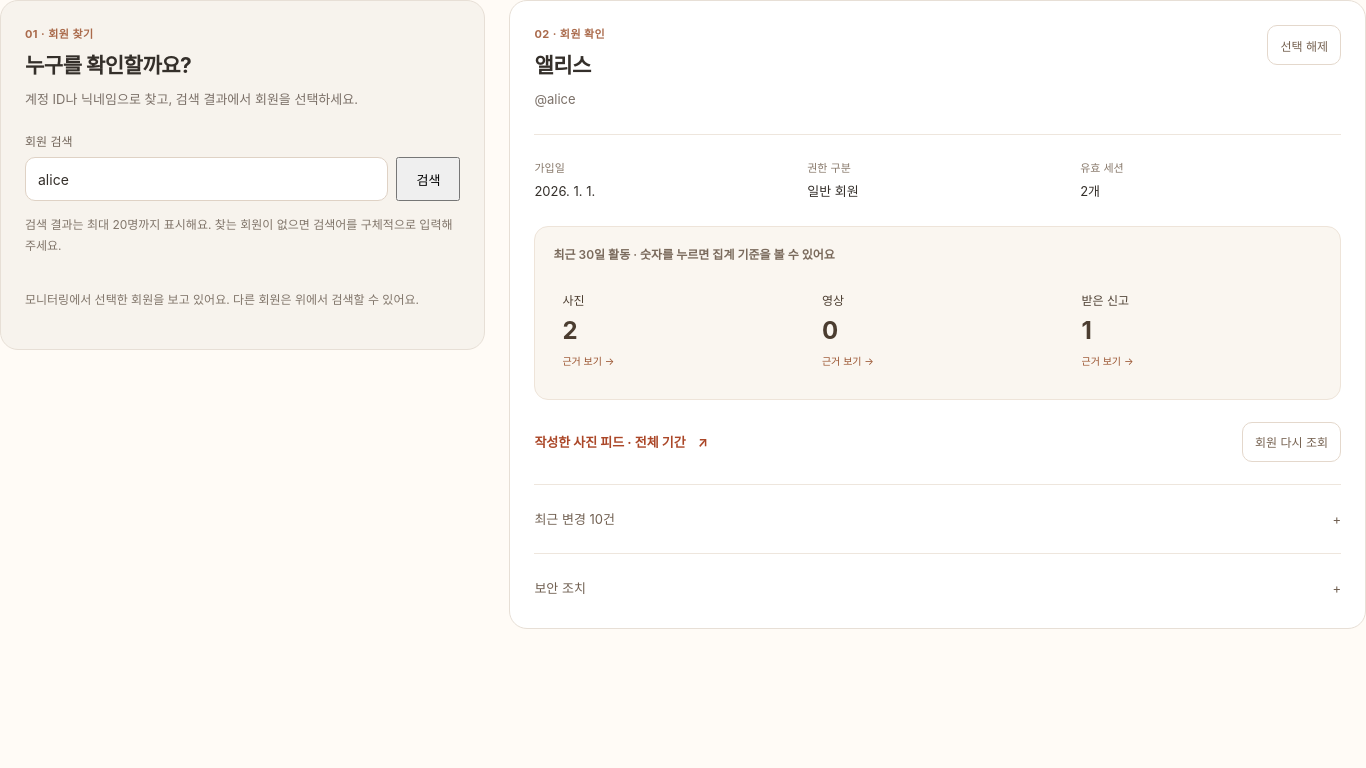
searching another account clears the previous detail and its action
The width and height of the screenshot is (1366, 768).
Check: the heading "최근 변경 10건 +" is shown, box x1=534 y1=511 x2=1341 y2=528
Replace the text in the search field labelled "회원 검색" with "not-found" at (207, 180), box x1=25 y1=158 x2=388 y2=202
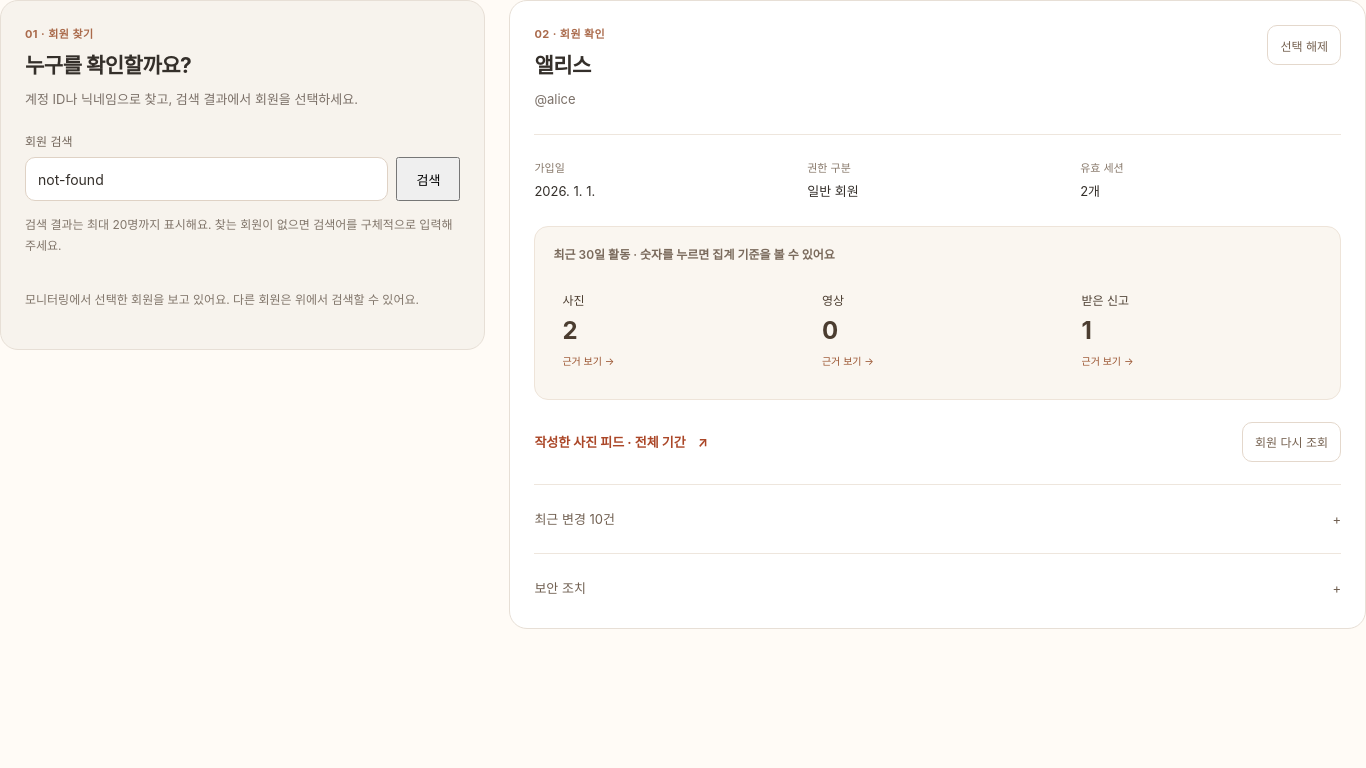
Click the button "검색" at (428, 180), box x1=396 y1=158 x2=460 y2=202
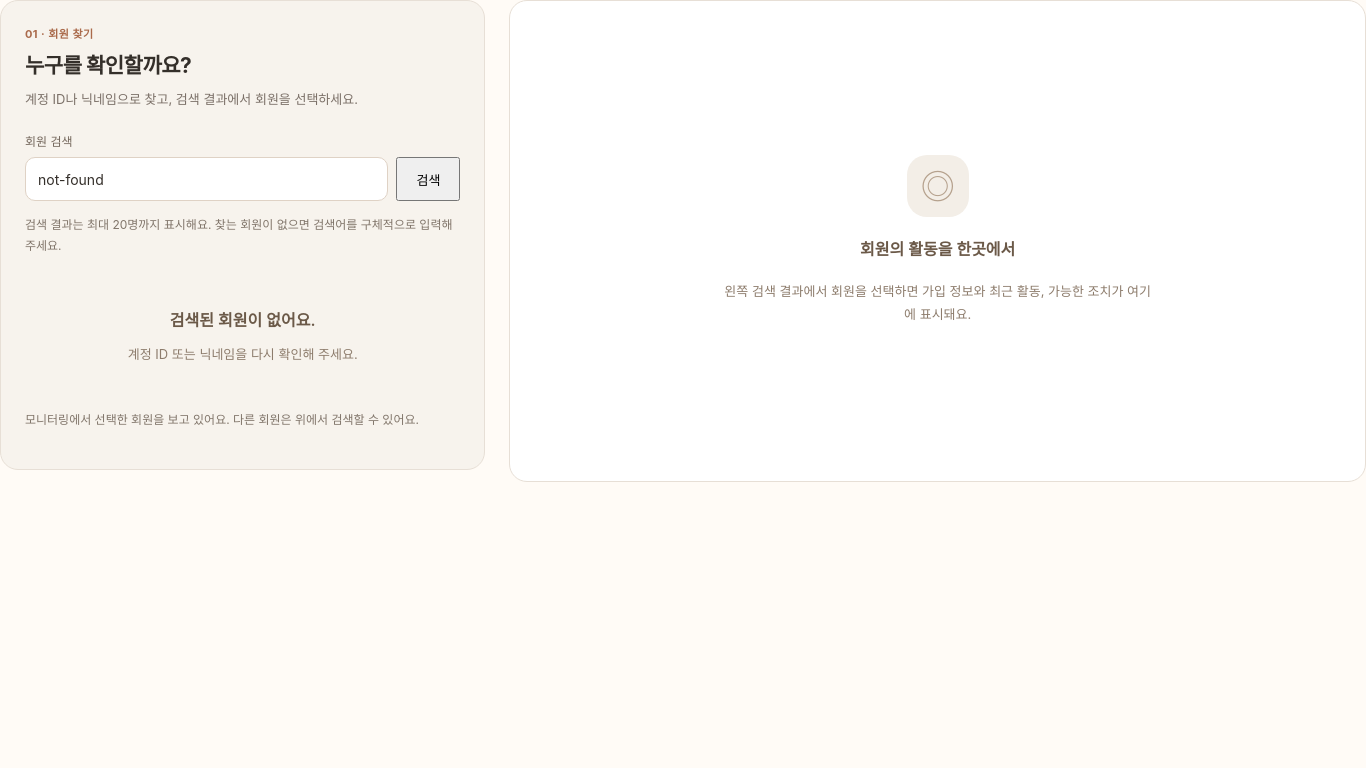
Check: the text "검색된 회원이 없어요." is shown, box x1=170 y1=310 x2=316 y2=330
Check: the heading "보안 조치" is gone
